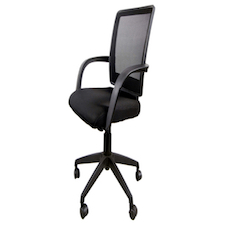chair: (44, 3, 198, 223)
